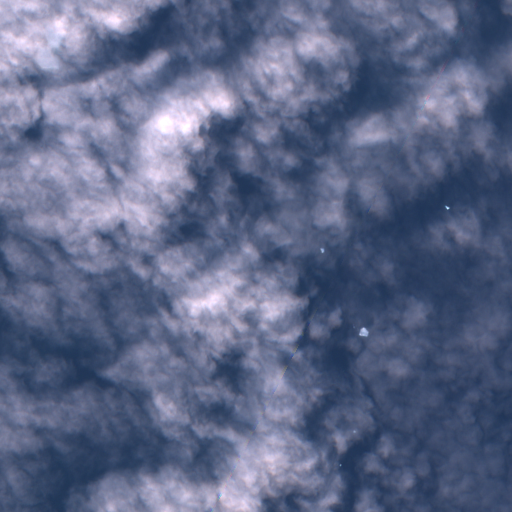Iceberg: (359, 327, 368, 336), (445, 205, 449, 209), (320, 248, 324, 252), (353, 431, 355, 432), (340, 464, 341, 466), (353, 326, 354, 327)
